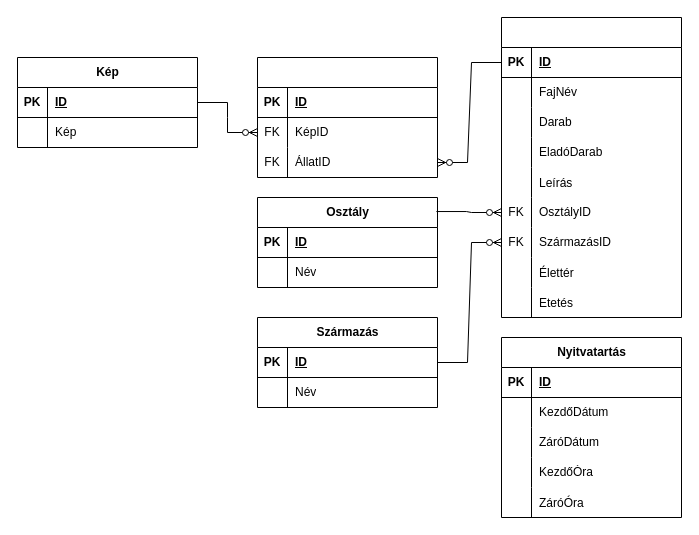
Image size: 699x535. Some labels were removed from this diagram. Here are the shapes that lost their labels. From the top down, the box of each, then its label:
(256, 56, 438, 178): Kép (kapcsoló)
(500, 16, 682, 318): Állat
